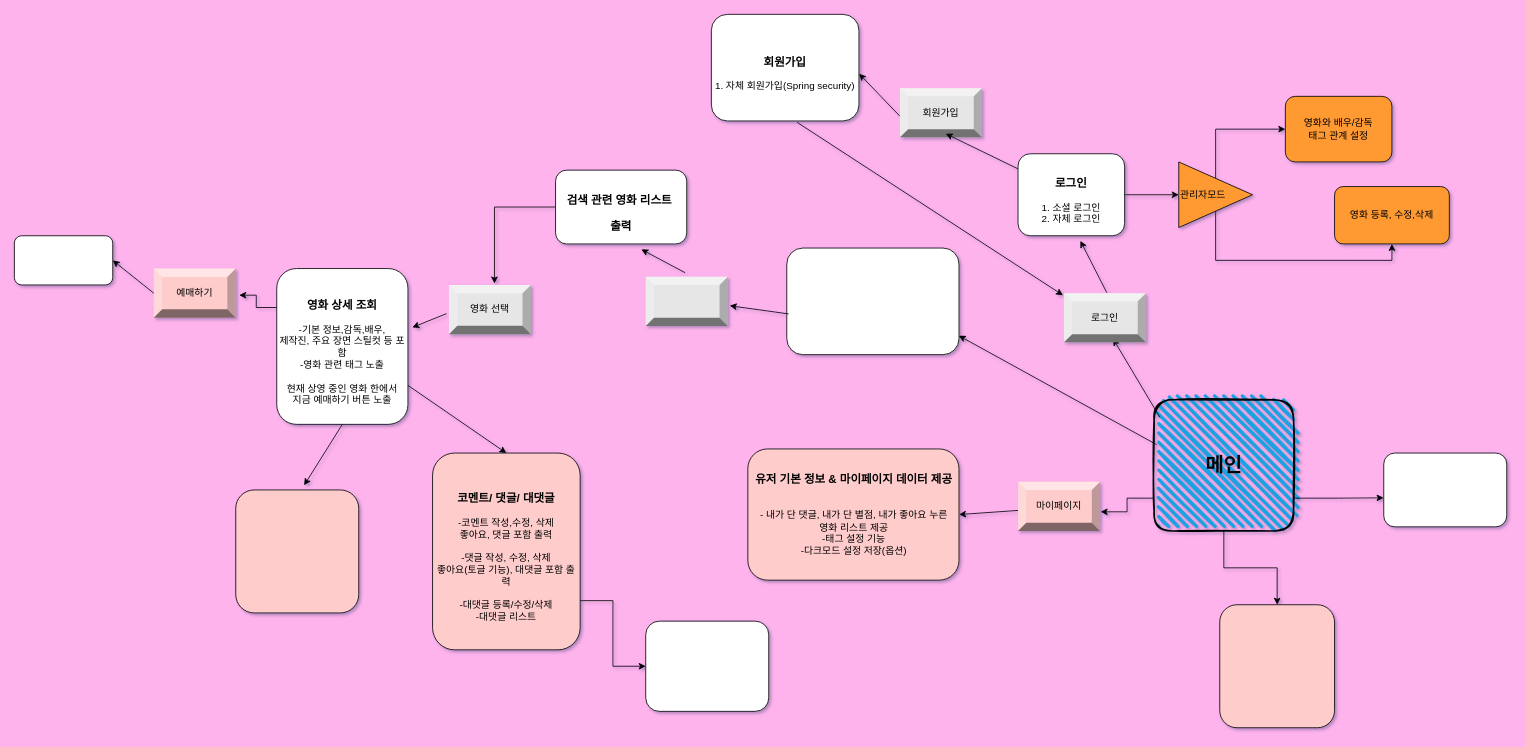
The diagram is 1526 pixels wide and 747 high, and some of its shapes have lost their labels. The centre of each missing label's shape, as x and y in pixels:
"검색" goes at (x=686, y=301).
"검색기능(상단에 추천 태그 노출) - 영화/배우/감독/유저 통합 검색 -최근 검색어 저장 -추천 검색어 노출" goes at (x=872, y=301).
"결제 올인원 서비스" goes at (x=63, y=260).
"박스오피스/명작/ 평균 별점 높은 영화" goes at (x=1445, y=489).
"별점 (별점만 줄 수 있음) 별점 저장/수정 한번 별점을 주면 그 정보는 저장 돼 있어야 함) 영화별 별점 평균 시각화" goes at (x=297, y=551).
"추천 시스템 -장르 기반 추천 -평균 별점 높은 영화 -배우/감독 기반 추천 -태그 기반 추천 -탑10" goes at (x=1277, y=666).
"클린봇 -욕설 탐지 -외부 라이브러리 연동" goes at (x=707, y=665).
